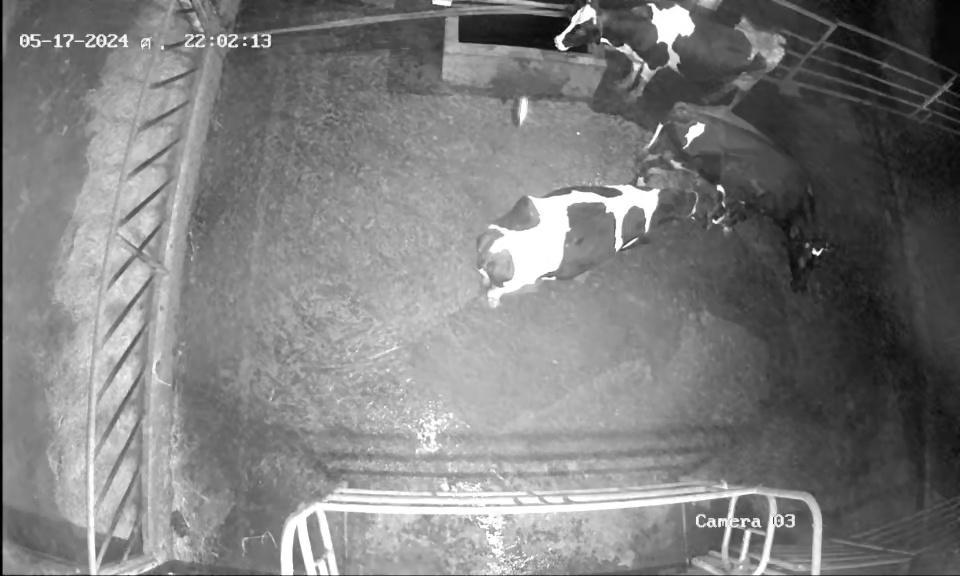drink: (538, 0, 620, 99)
stand: (632, 105, 840, 306), (461, 163, 723, 316)
